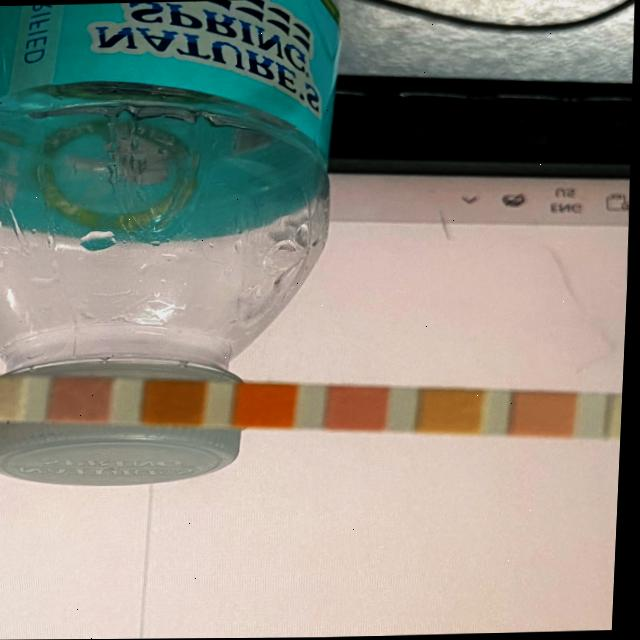Bilirubin: (0, 377, 28, 416)
Blood: (237, 386, 299, 425)
Ketone: (51, 379, 115, 420)
Nitrite: (612, 398, 626, 438)
Protein: (421, 393, 485, 432)
SpGravity: (146, 382, 210, 423)
Urobilinogen: (517, 397, 579, 436)
pH: (330, 389, 390, 428)
